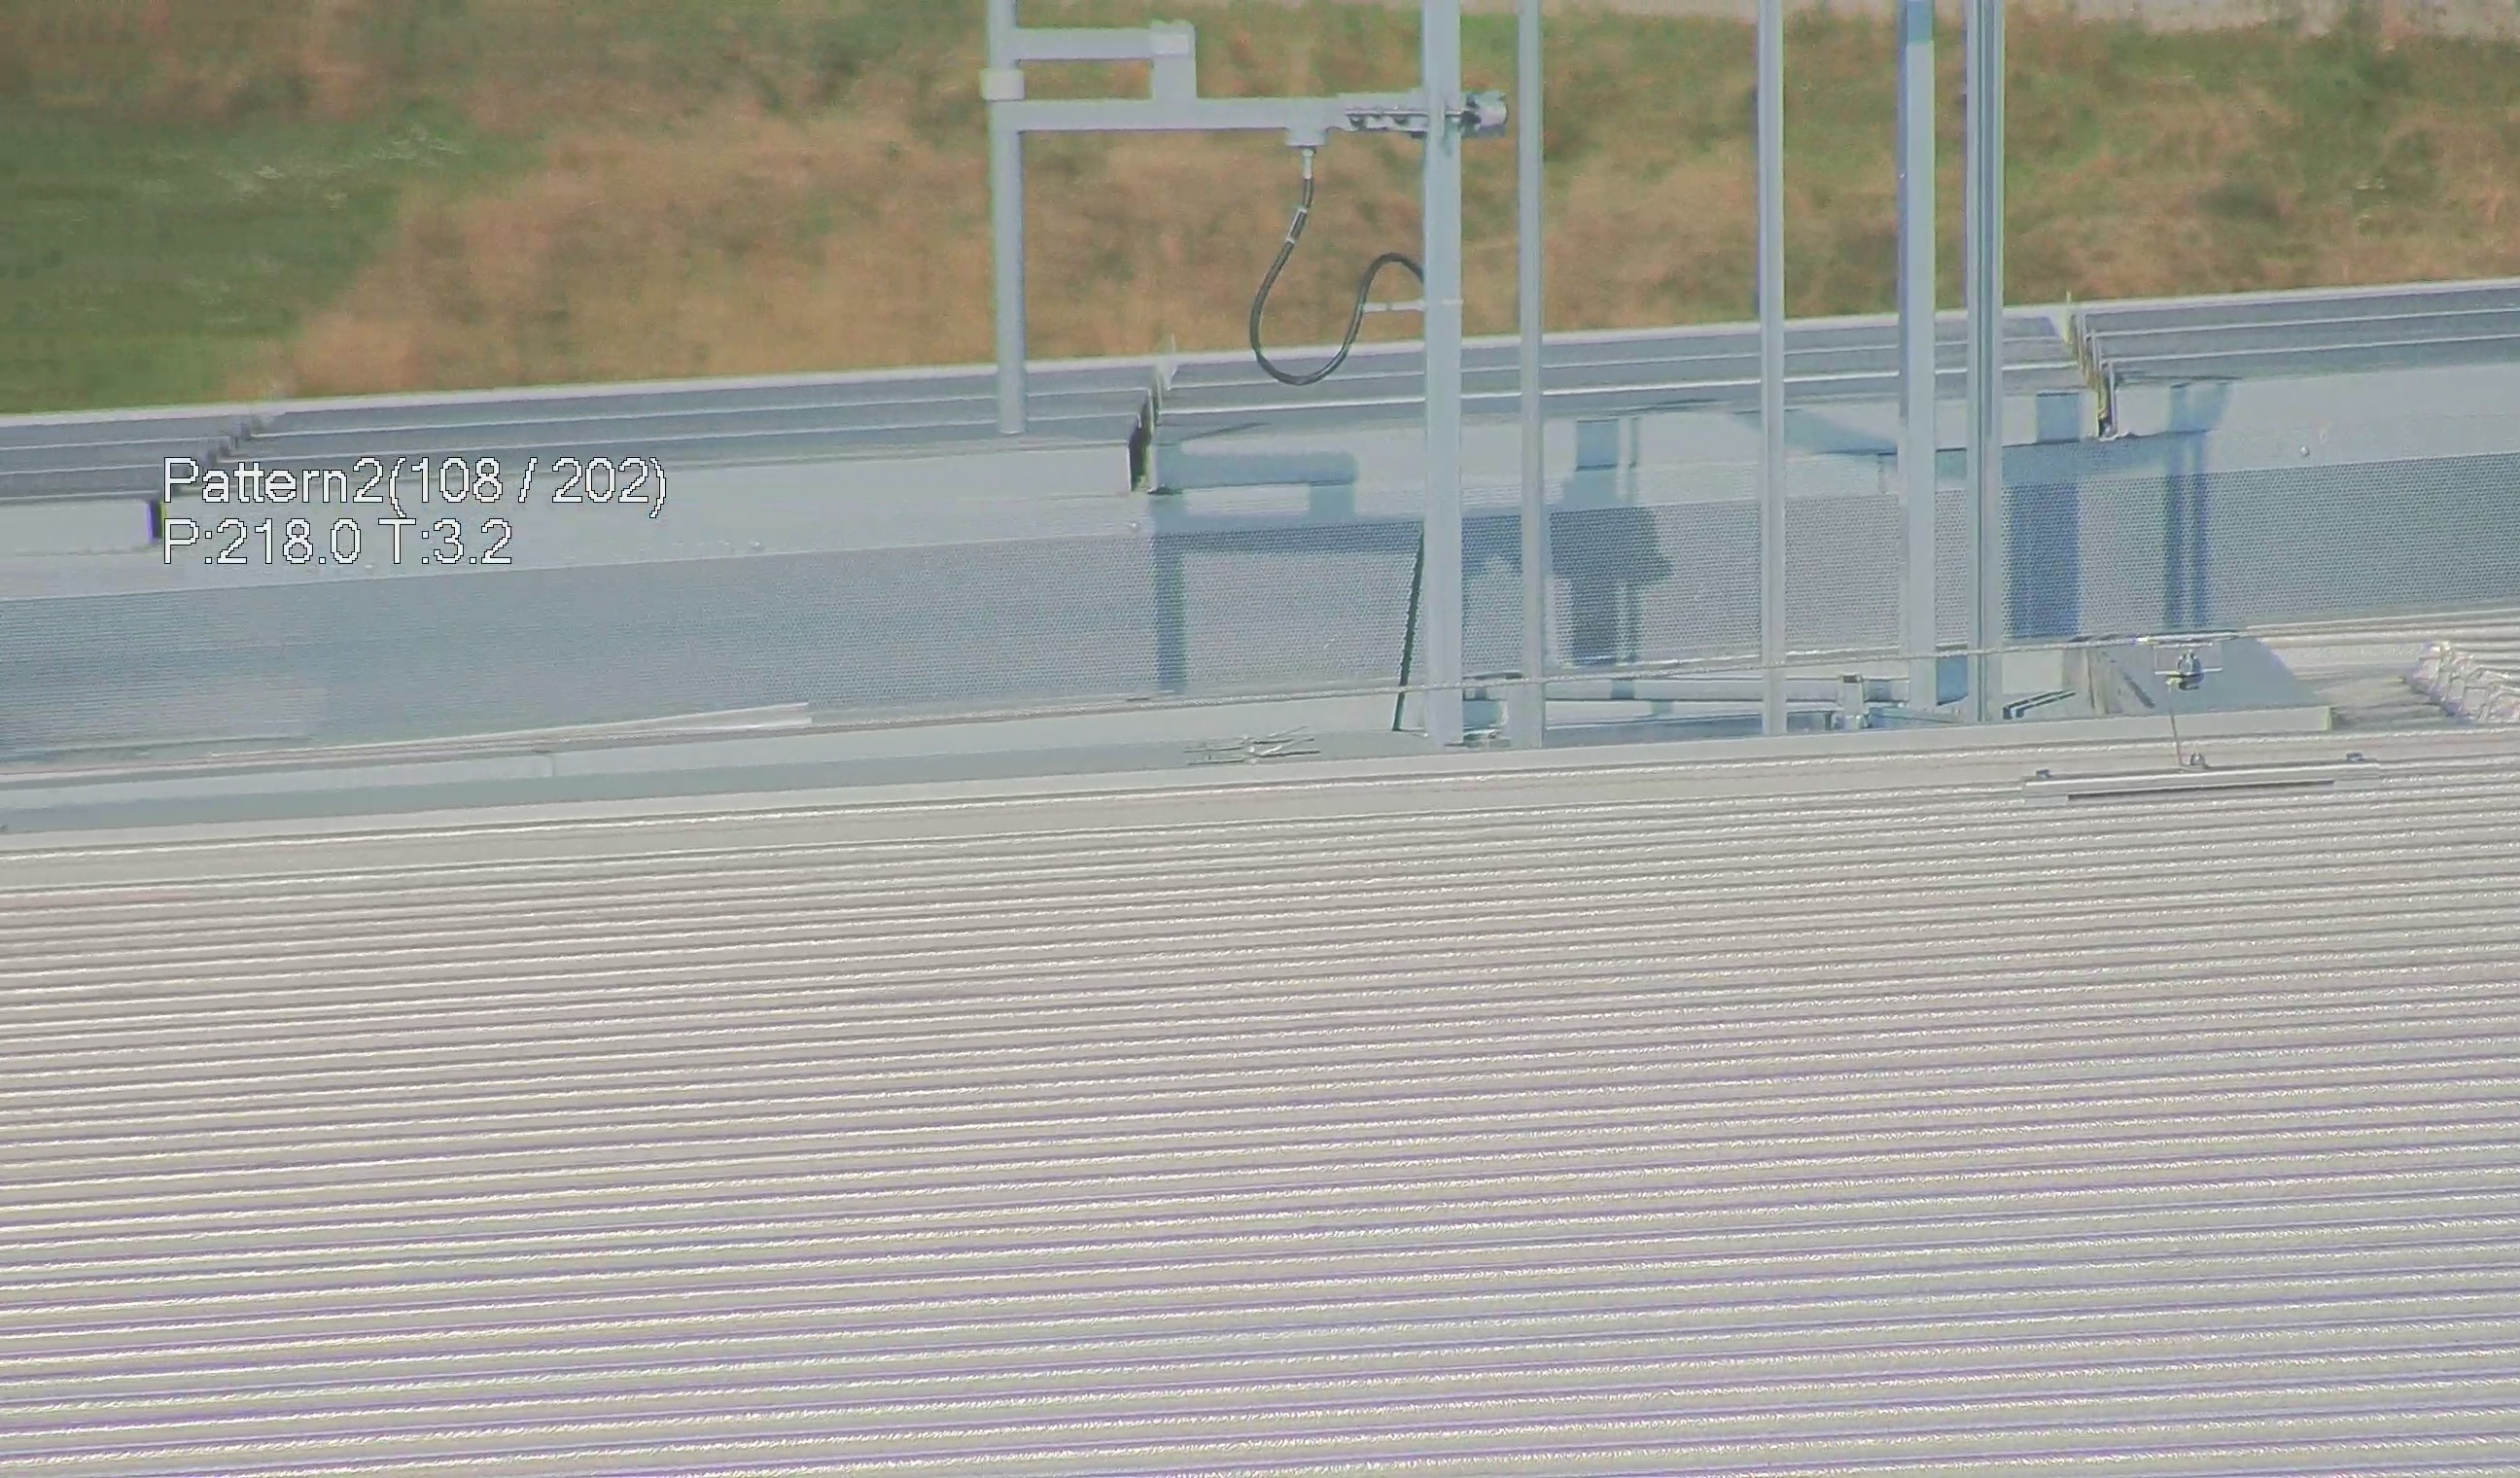Other: (2407, 628, 2520, 735)
